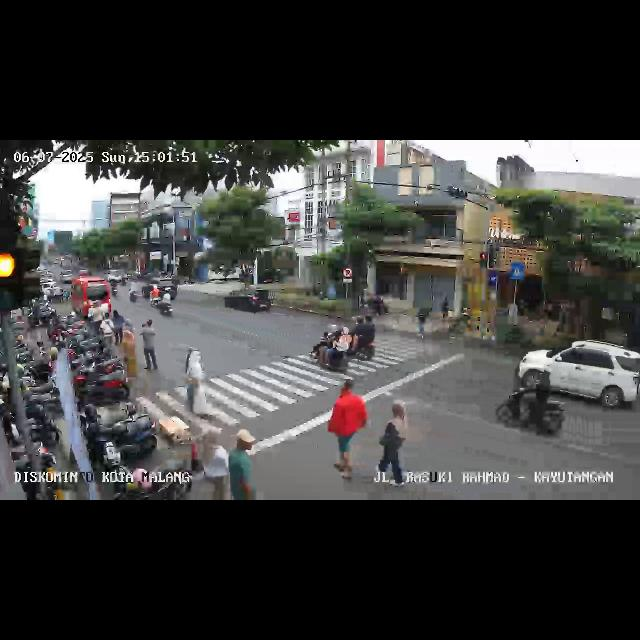car: (522, 338, 640, 412), (71, 276, 111, 318), (224, 285, 272, 315), (141, 278, 177, 298)
motorcycle: (494, 367, 568, 441), (314, 316, 376, 378), (158, 285, 175, 317), (110, 280, 118, 296)
person: (328, 382, 368, 486), (376, 398, 410, 489), (228, 425, 260, 499), (199, 428, 231, 498), (182, 348, 202, 416), (140, 318, 158, 378), (122, 330, 138, 380), (414, 302, 430, 343), (113, 310, 127, 346), (100, 312, 114, 348)
